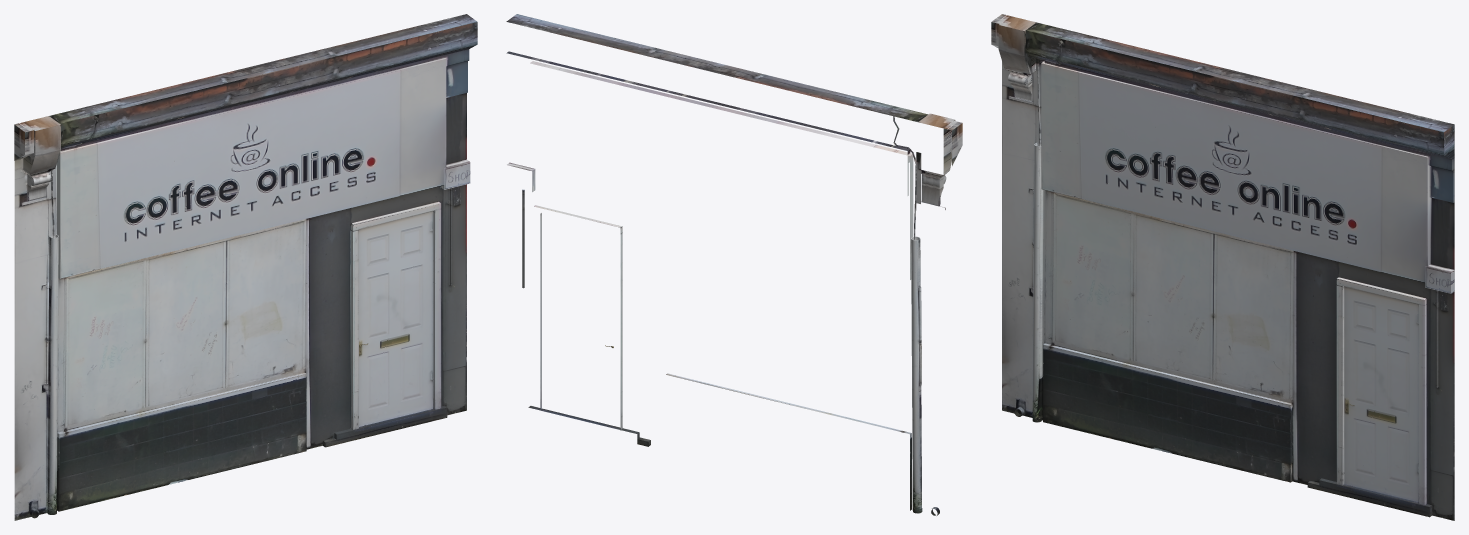
Rendered from 05_shop_front16.glb.
The picture shows the model from 3 angles, left to right: view 1: azimuth 30°, elevation 25°; view 2: azimuth 150°, elevation 25°; view 3: azimuth 330°, elevation 25°; orthographic projection.
Visible parts, largest first — view 1: shop_front16; view 2: shop_front16; view 3: shop_front16.
Part boxes in pixels (x1,y1,x2,y2): shop_front16: [14, 14, 477, 520]; shop_front16: [506, 14, 962, 515]; shop_front16: [991, 14, 1454, 520].
Size of the model in its own units: 5 by 4.19 by 0.2736.
Materials: 1 (1 with a texture image).
